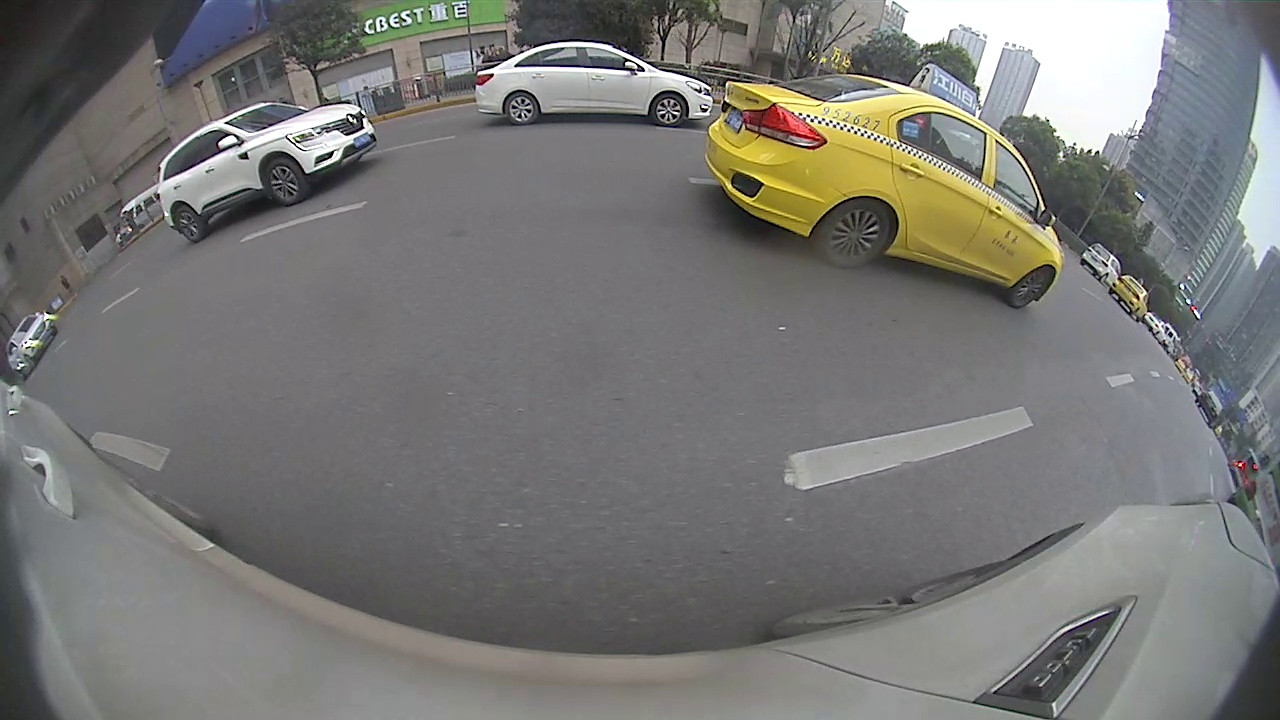car: (705, 61, 1064, 308), (156, 98, 380, 243), (471, 39, 716, 128), (1107, 272, 1153, 323), (1078, 242, 1125, 286)
front: (257, 154, 307, 206), (1009, 267, 1055, 310), (650, 92, 688, 128)
rear: (818, 198, 900, 267), (171, 202, 206, 243), (503, 92, 538, 126)
